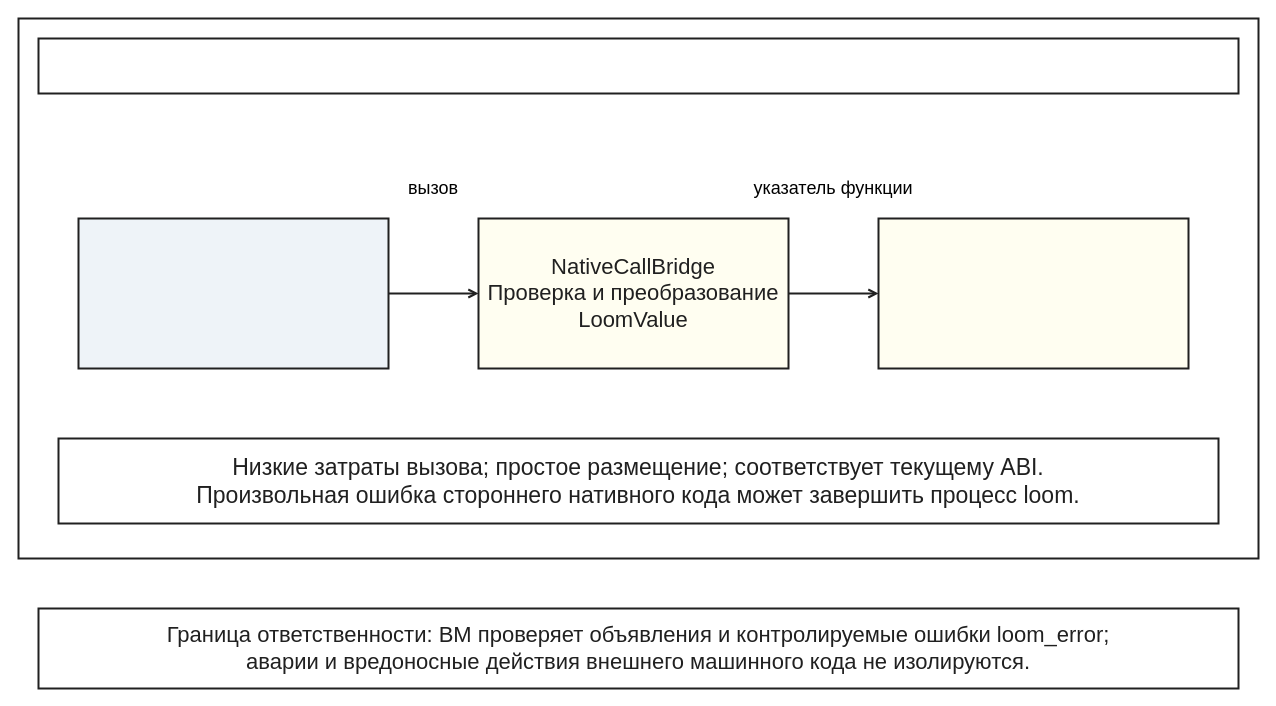
This 1276x706 diagram has some shape labels left out. The shapes that lost their labels are listed below. From the top down, each one's centre as x and y in pixels, then its label:
At point 638,65: "«process» loom — выбранный вариант".
At point 233,293: "VirtualMachine Стек и кадры вызова".
At point 1033,293: "Нативная библиотека C ABI + LoomApi".
